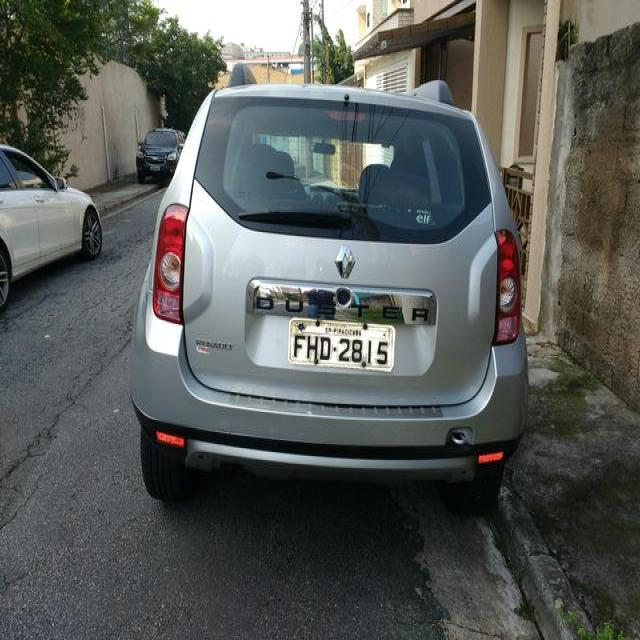Placa: (286, 313, 397, 375)
